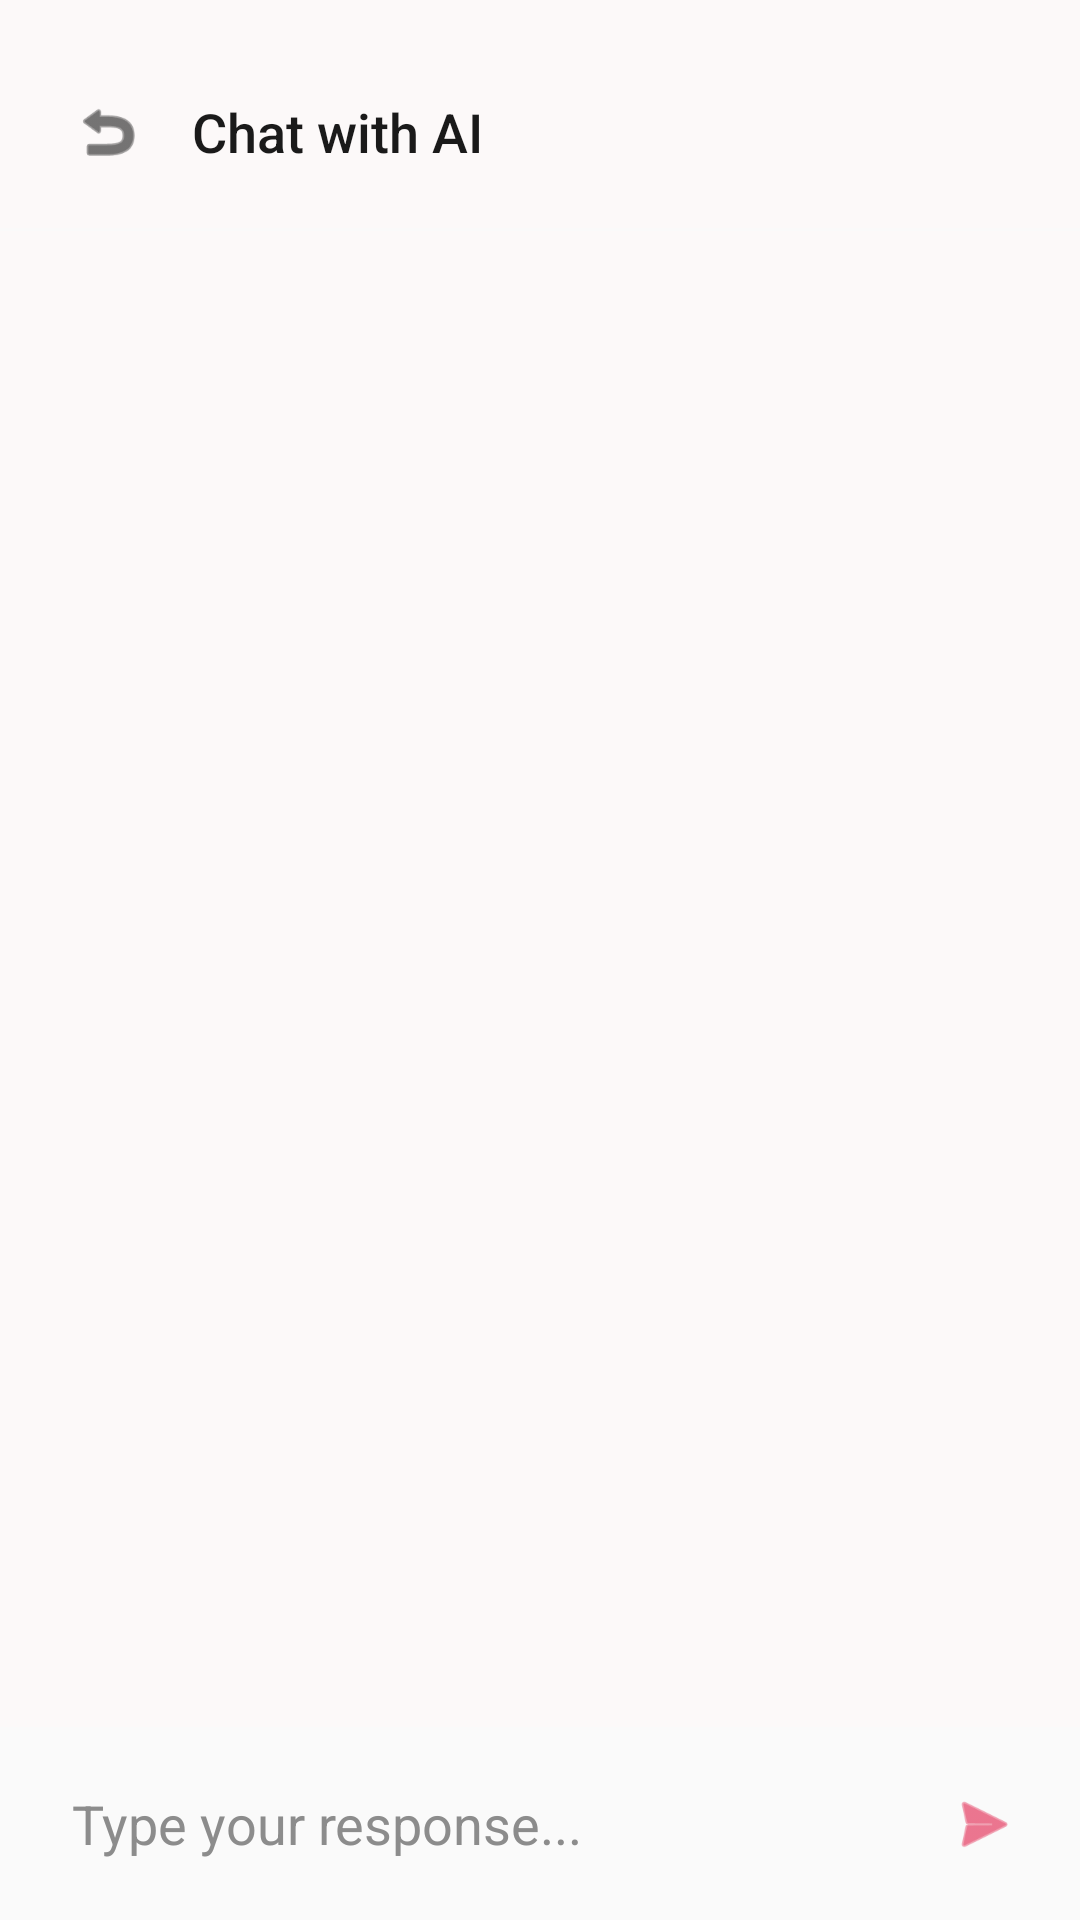

Icon bounding boxes for this 1080 x 1920 phone screenshot, format (x1=x1, y1=y1, x2=x2, y2=y2):
revert: (x1=83, y1=109, x2=135, y2=156)
send: (x1=962, y1=1802, x2=1008, y2=1847)
